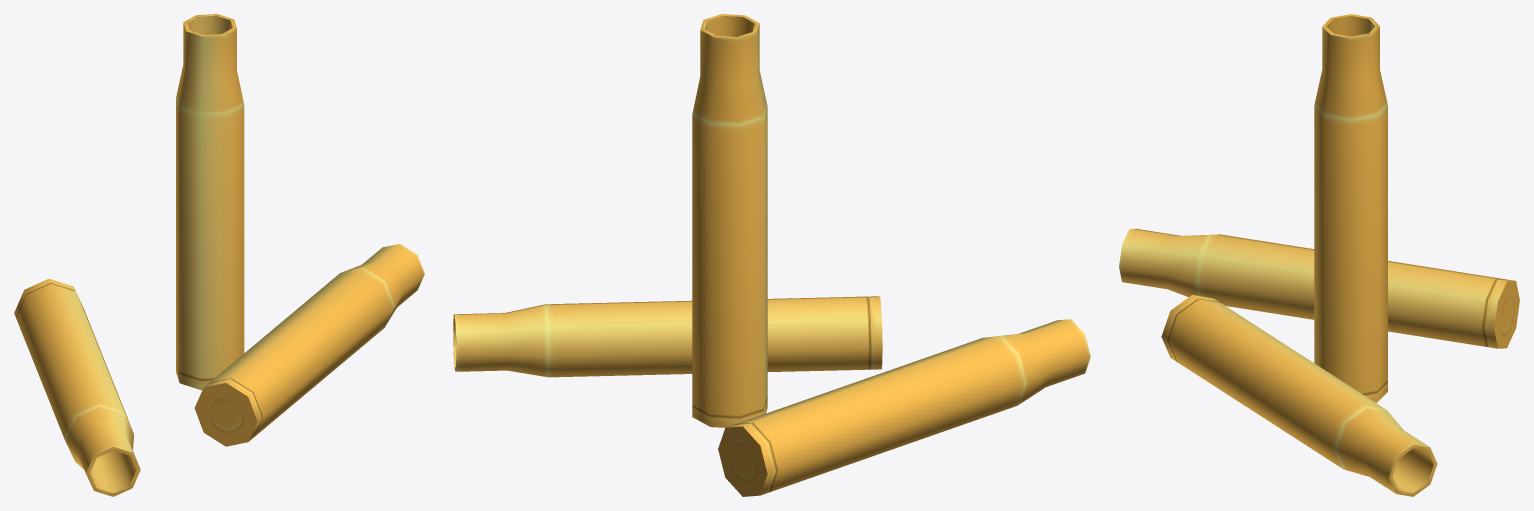
The model's file is Bullet.obj.
The picture shows the model from 3 angles, left to right: view 1: azimuth 30°, elevation 25°; view 2: azimuth 150°, elevation 25°; view 3: azimuth 270°, elevation 25°; orthographic projection. The views are drawn at different scales.
Parts seen in each view (by area): view 1: Cylinder.007_Cylinder.010; view 2: Cylinder.007_Cylinder.010; view 3: Cylinder.007_Cylinder.010.
Boxes of the visible parts, <box> form: Cylinder.007_Cylinder.010: <box>14,14,424,496</box>; Cylinder.007_Cylinder.010: <box>453,14,1090,496</box>; Cylinder.007_Cylinder.010: <box>1119,14,1519,496</box>.
Size of the model in its own units: 0.0747 by 0.0546 by 0.0542.
